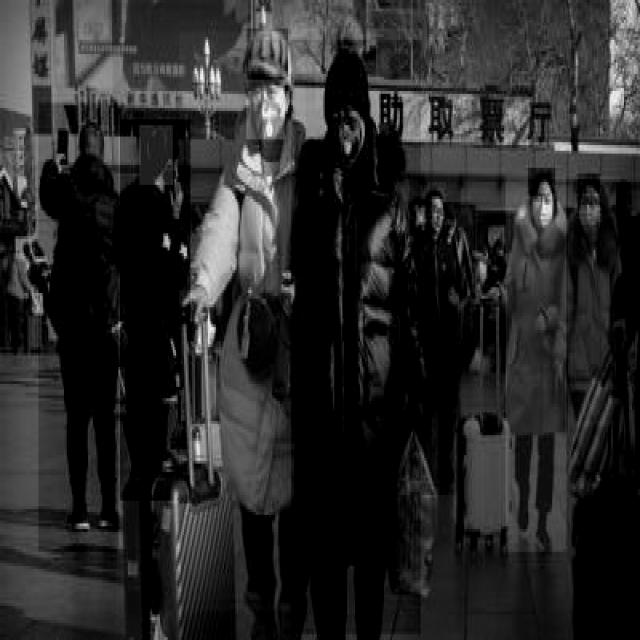face_mask: (246, 80, 286, 142), (328, 97, 363, 162), (530, 188, 552, 228), (578, 190, 600, 230)
face_nomask: (426, 202, 443, 233)
head_nohelmet: (316, 46, 366, 108), (247, 28, 290, 91), (140, 125, 174, 188), (82, 117, 107, 162), (528, 168, 557, 196), (428, 182, 447, 208), (578, 174, 602, 194)
person: (292, 40, 422, 637), (179, 31, 306, 614), (38, 102, 120, 555), (120, 120, 190, 503), (506, 176, 568, 555), (410, 179, 462, 498), (568, 176, 618, 430)
shoes: (510, 476, 534, 539), (62, 492, 92, 538), (95, 495, 127, 538), (531, 499, 555, 556)
